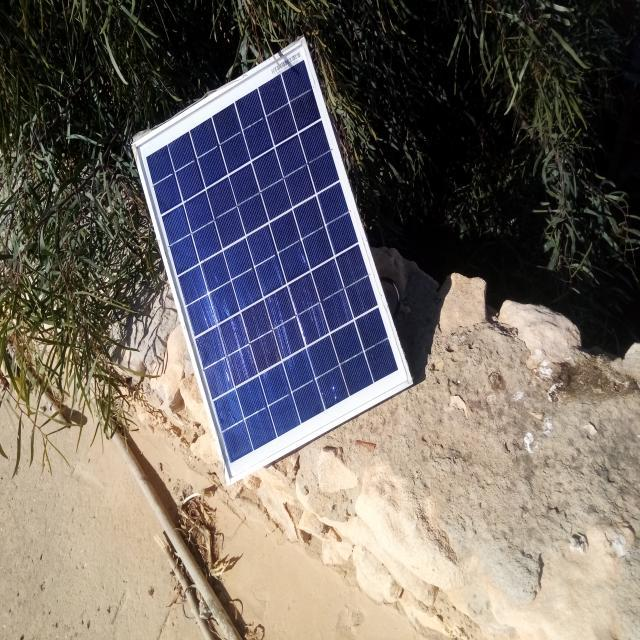no faulty: (133, 37, 413, 486)
